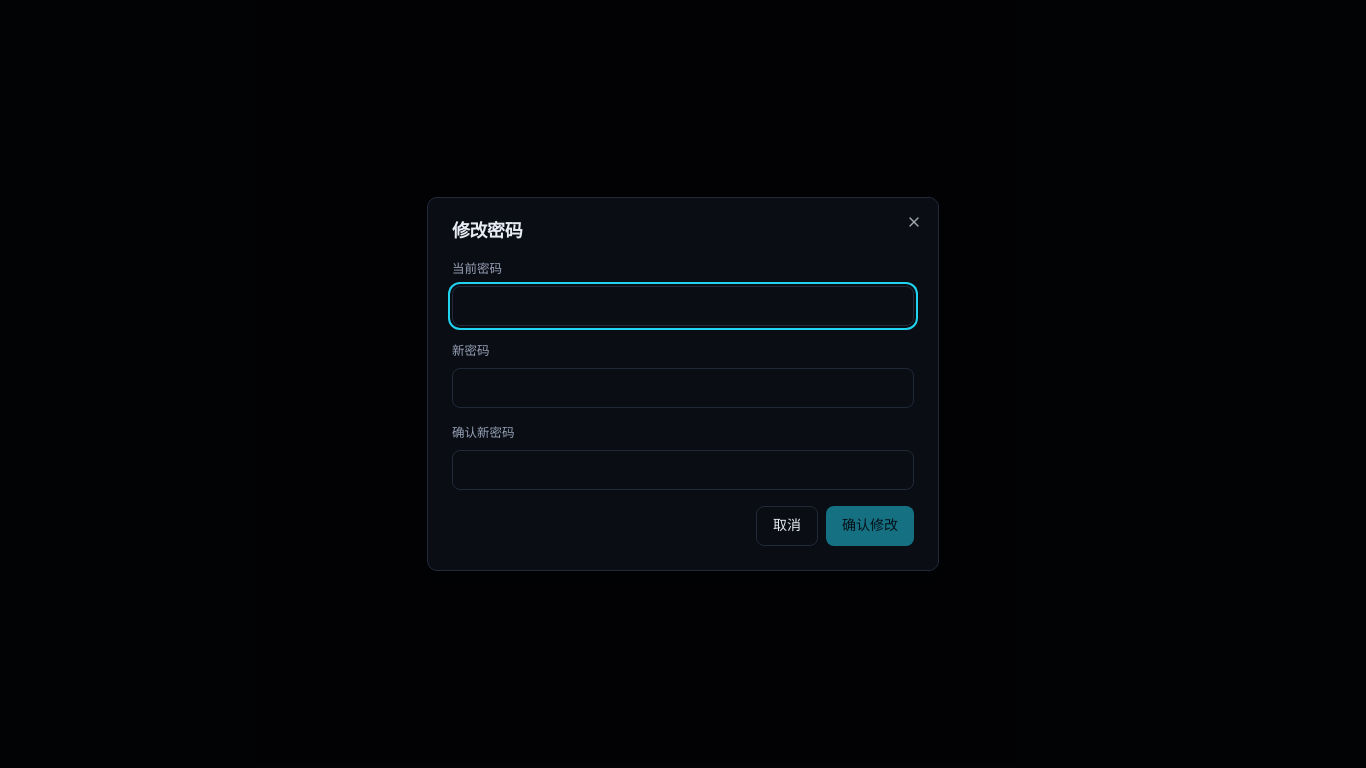
Test: ChangePasswordDialog › shows the backend error detail inline on a 400 (wrong current password) instead of closing
In the password field labelled "当前密码": (683, 306) [452, 286, 914, 326], type "wrong-password"
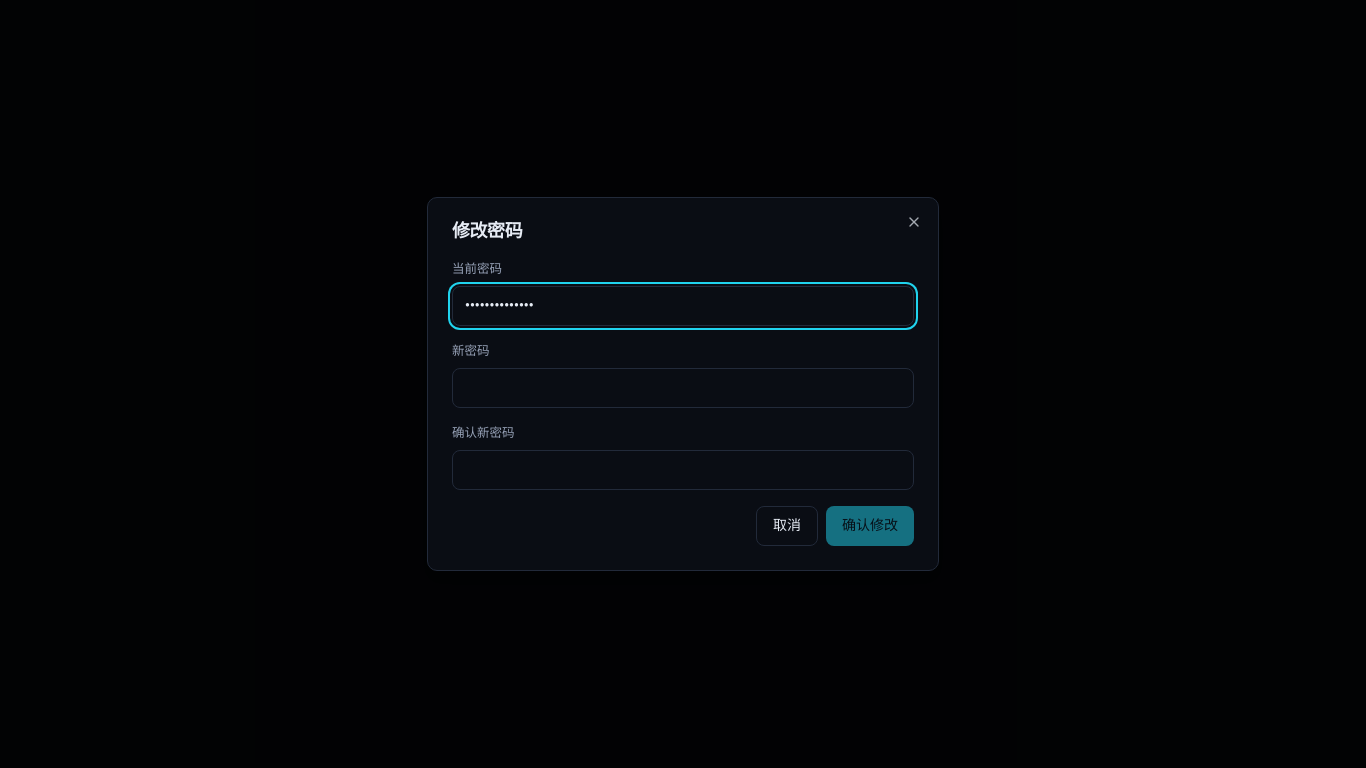
In the password field labelled "新密码": (683, 388) [452, 368, 914, 408], type "new-password-123"
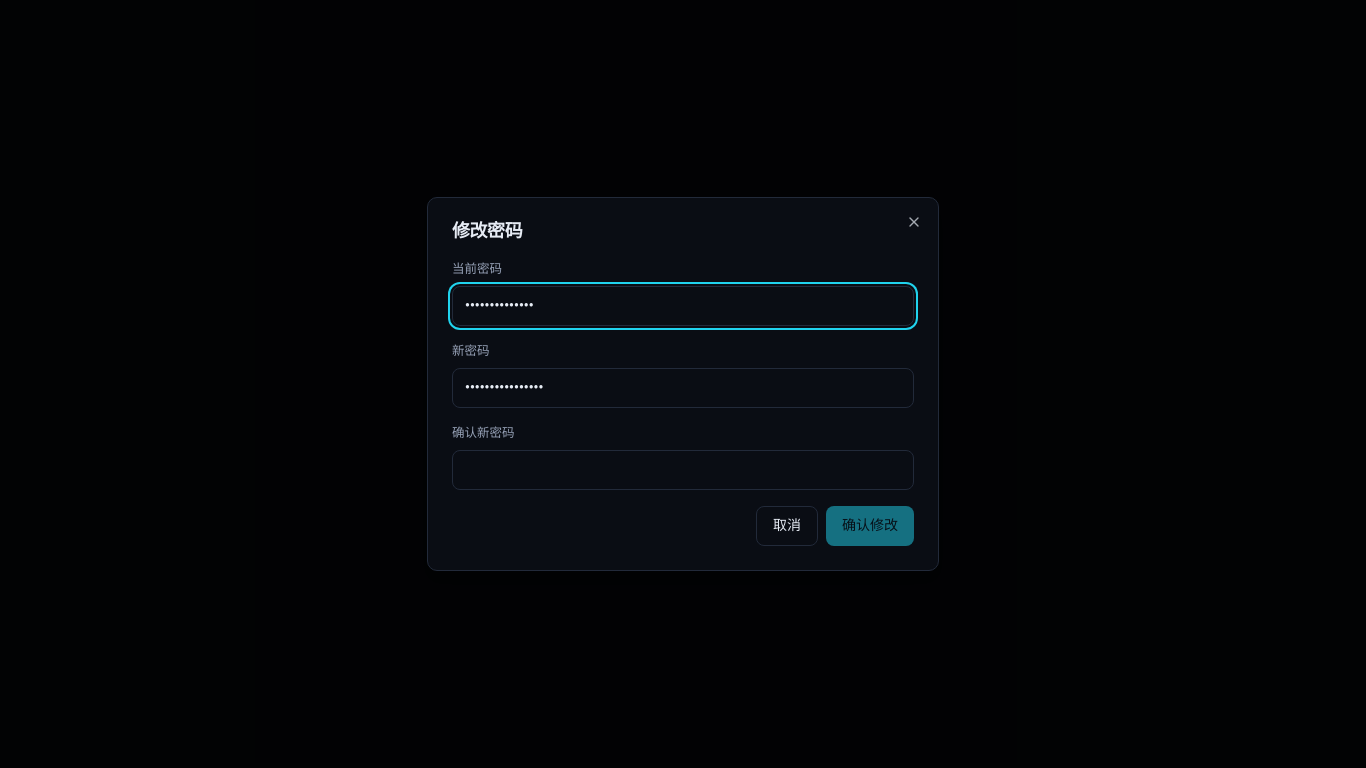
In the password field labelled "确认新密码": (683, 470) [452, 450, 914, 490], type "new-password-123"
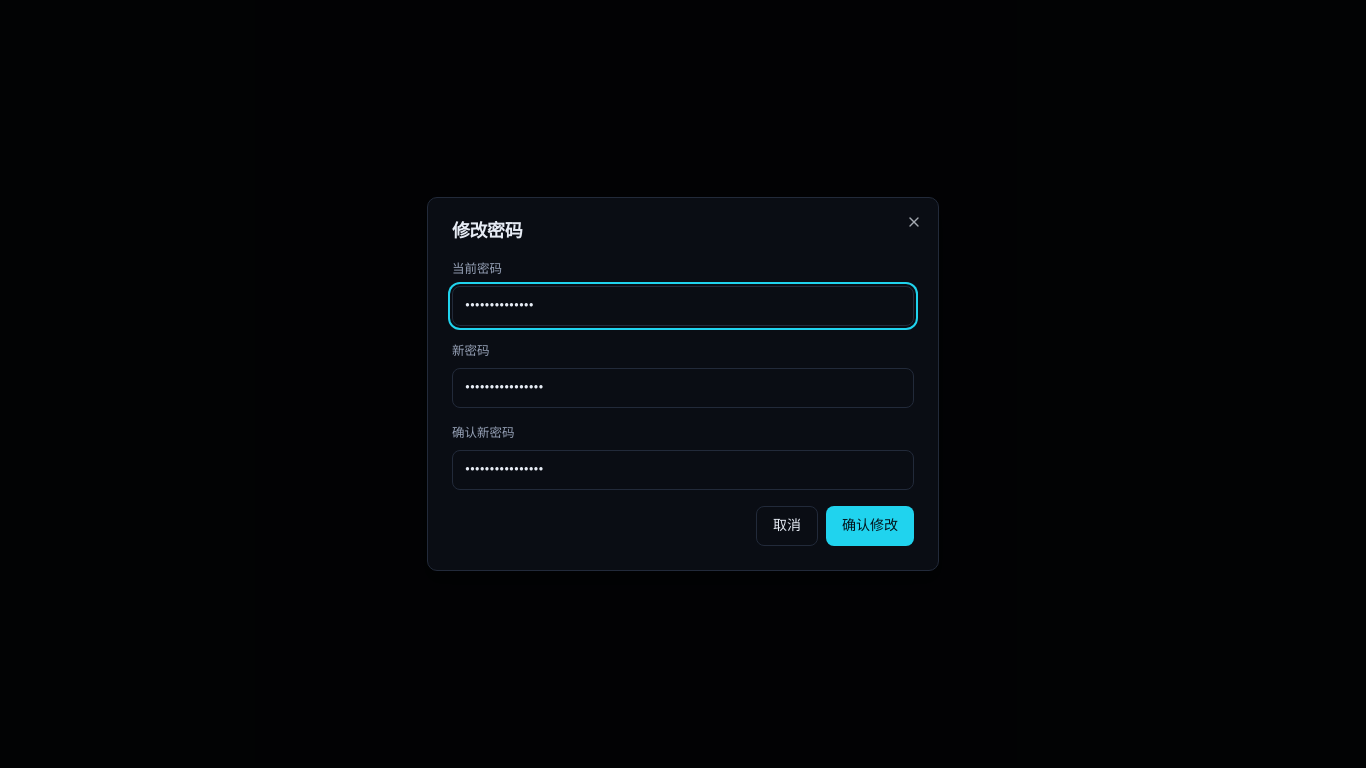
Click the button "确认修改": (870, 526) [826, 506, 914, 546]
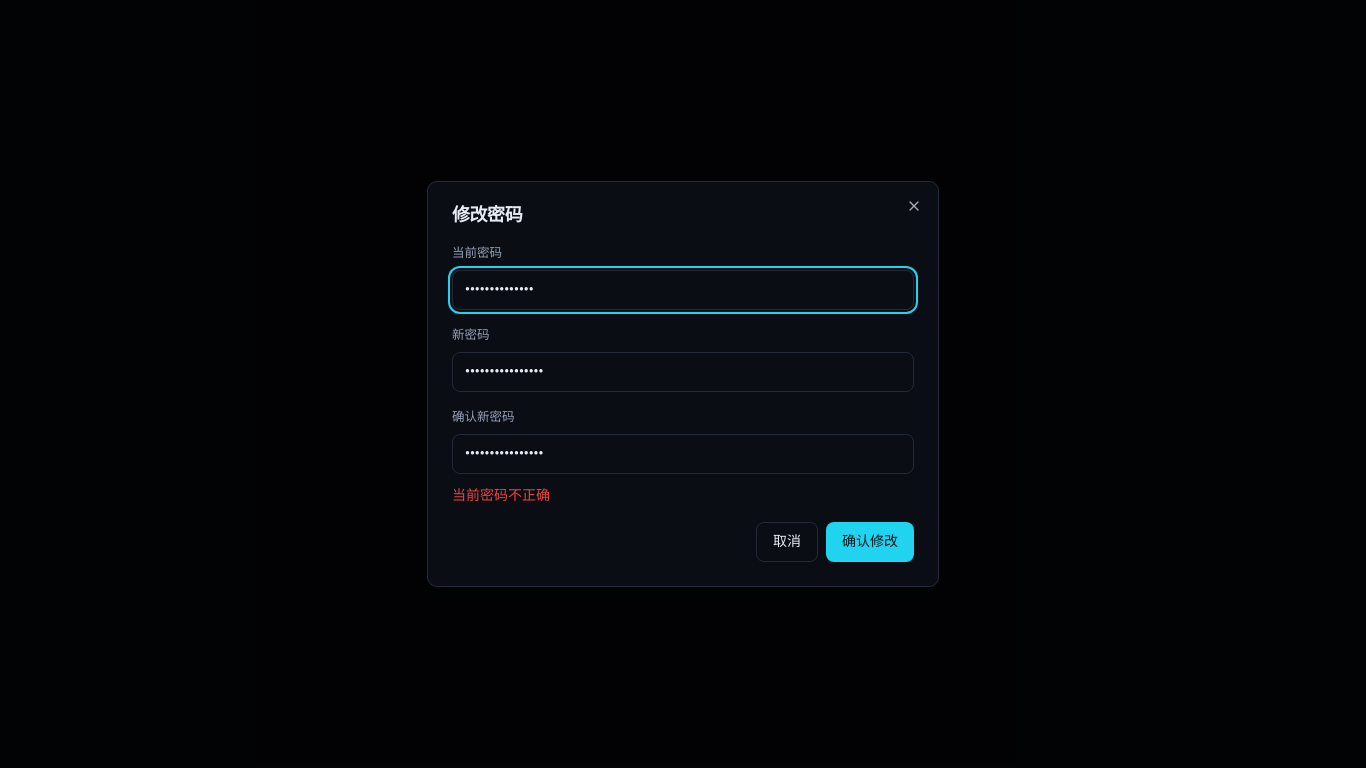
Result: the text "当前密码不正确" is shown at [452, 488, 550, 503]
